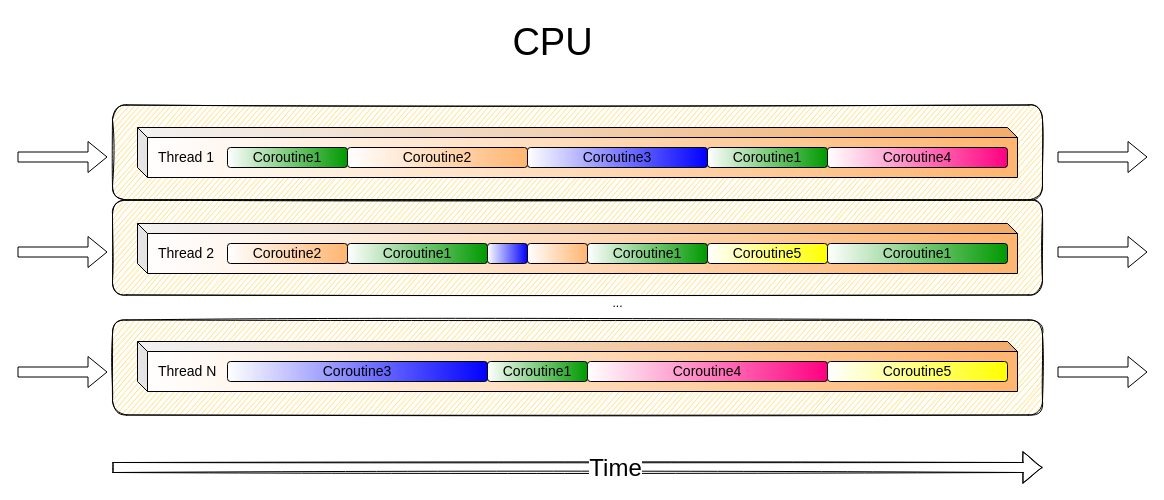
The diagram is 1164 pixels wide and 500 high, and some of its shapes have lost their labels. Here are the shapes that lost their labels. From the top down, the centre of each, then its label:
point (507, 253): C3
point (557, 253): C2
